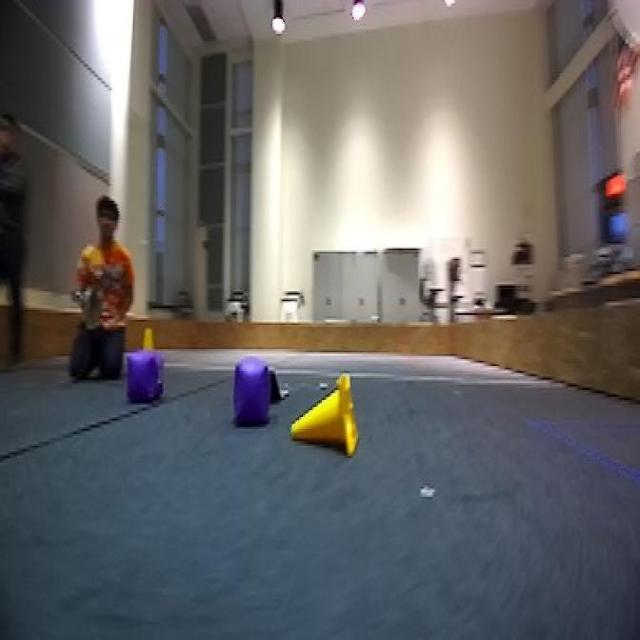frc_cone: (282, 366, 356, 460), (128, 322, 164, 356)
frc_cube: (226, 357, 270, 429), (124, 349, 152, 405)
